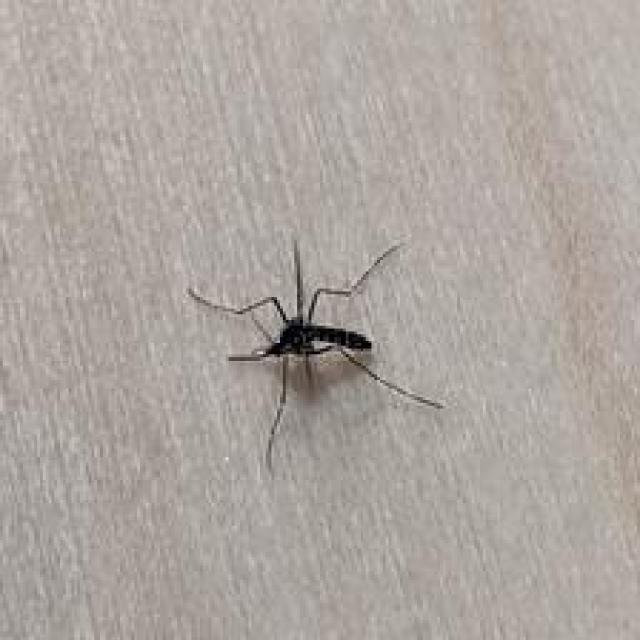Aedes albopictus: (186, 235, 446, 474)
